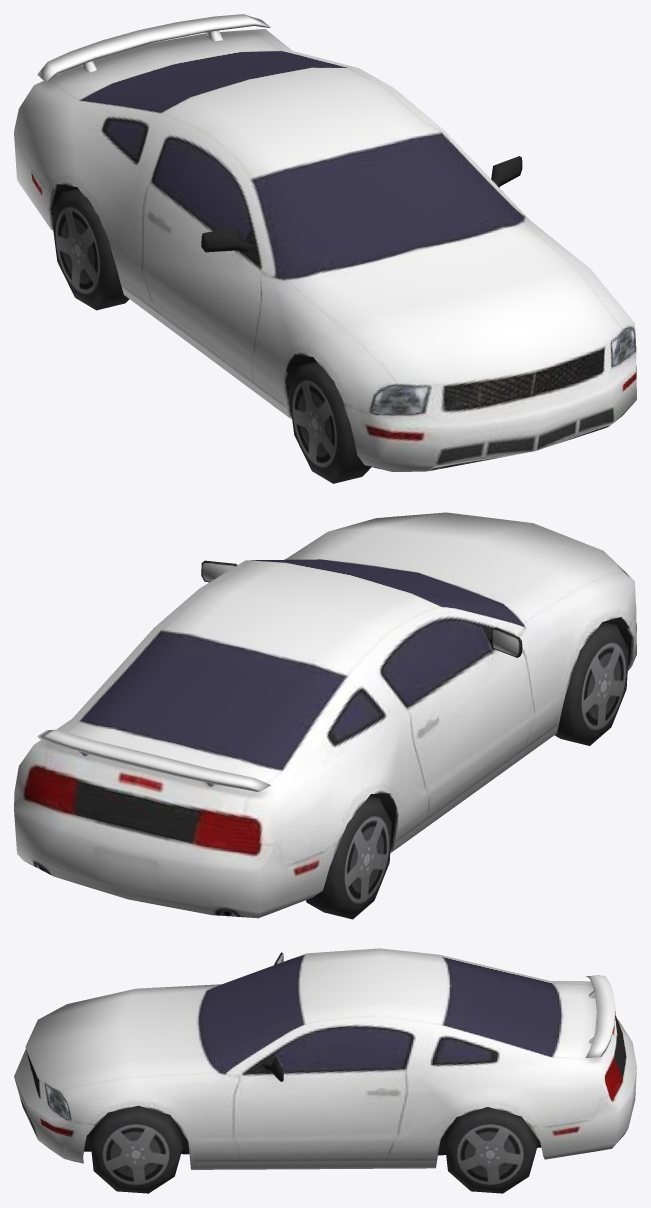
File: car_small.glb
3 views of the same model, one above another, from view 1: azimuth 30°, elevation 25°; view 2: azimuth 150°, elevation 25°; view 3: azimuth 270°, elevation 25° (orthographic). The views are drawn at different scales.
Parts seen in each view (by area): view 1: Sports_Car_Fin; view 2: Sports_Car_Fin; view 3: Sports_Car_Fin.
Boxes of the visible parts, x1,y1,x2,y2 form: Sports_Car_Fin: (14,14,636,483); Sports_Car_Fin: (14,512,636,919); Sports_Car_Fin: (14,948,636,1193).
Bounding box in the file's own units: 200 × 131 × 450.
1 material, 1 textured.
